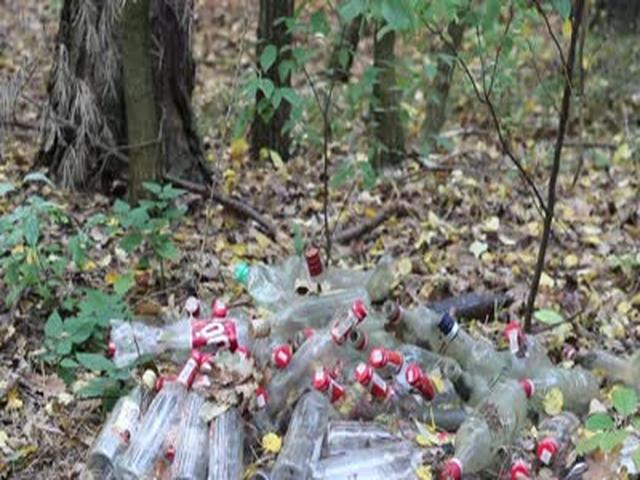garbage: (148, 304, 508, 475)
